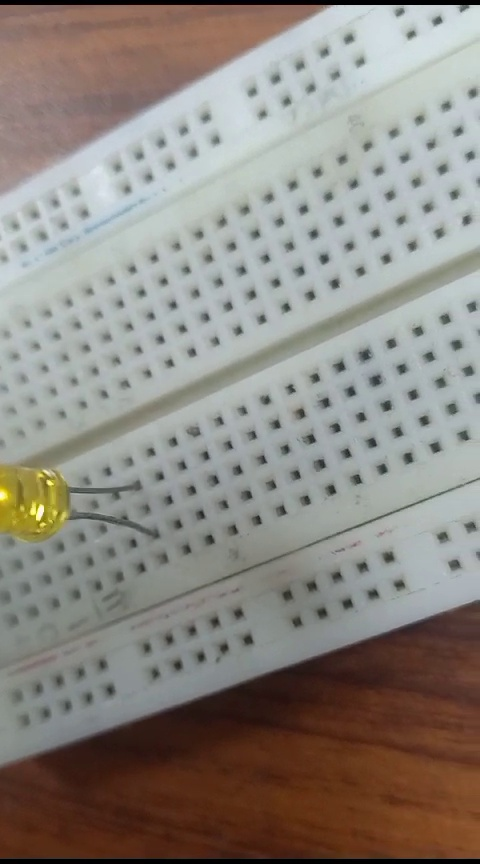LED: (4, 451, 158, 551)
